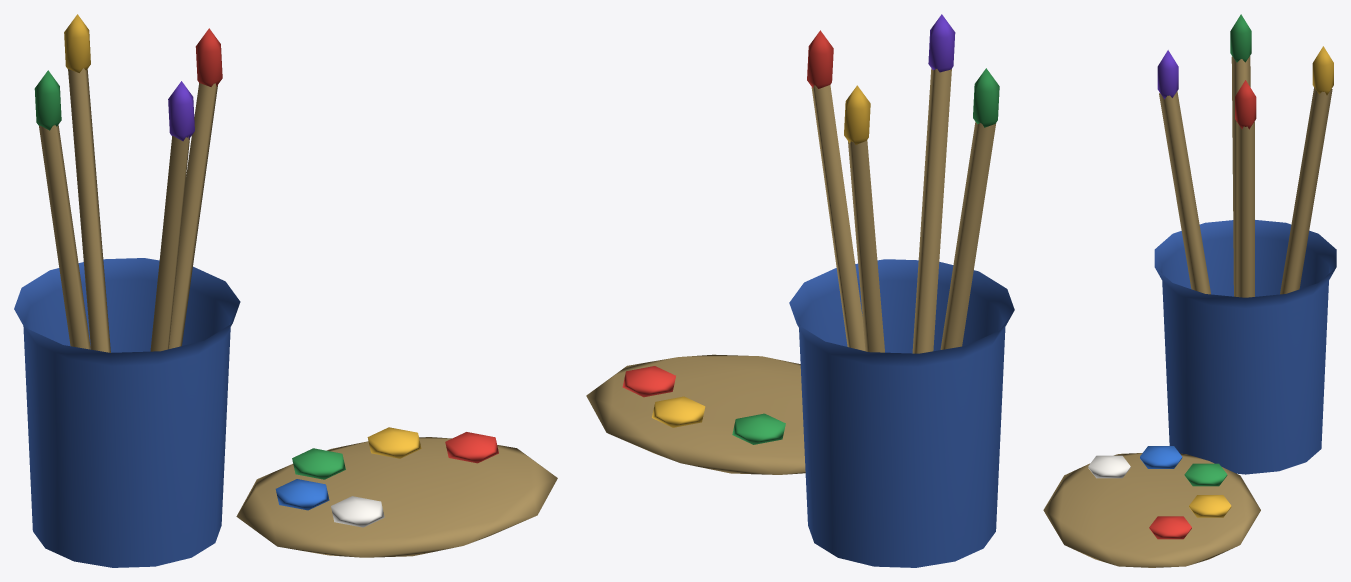
File: furn_art_supplies.glb
3 renders of one model, left to right at view 1: azimuth 30°, elevation 25°; view 2: azimuth 150°, elevation 25°; view 3: azimuth 270°, elevation 25°, orthographic. The views are drawn at different scales.
Parts seen in each view (by area): view 1: furn_art_supplies_main, furn_art_supplies_gloss; view 2: furn_art_supplies_main, furn_art_supplies_gloss; view 3: furn_art_supplies_main, furn_art_supplies_gloss.
Part boxes in pixels (<box>): furn_art_supplies_main: <box>14,14,557,567</box>; furn_art_supplies_gloss: <box>275,427,498,527</box>; furn_art_supplies_main: <box>586,14,1014,567</box>; furn_art_supplies_gloss: <box>622,366,785,444</box>; furn_art_supplies_main: <box>1043,14,1336,567</box>; furn_art_supplies_gloss: <box>1088,446,1231,539</box>.
Bounding box in the file's own units: 0.2756 × 0.28 × 0.1885.
